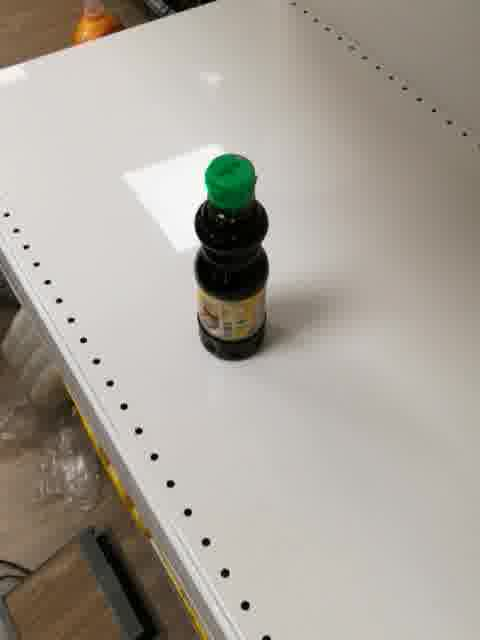cookingoil: (191, 150, 273, 364)
